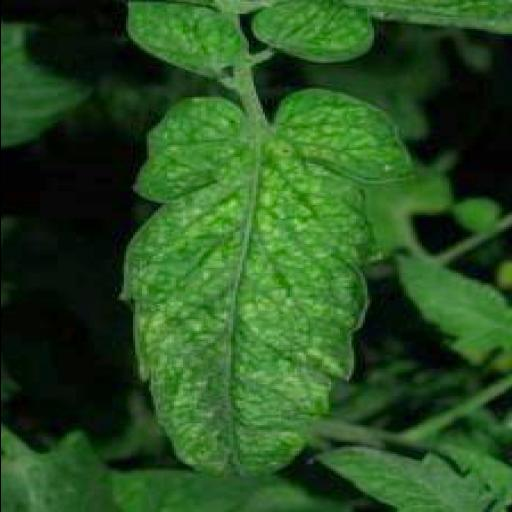Spider Mites: (118, 85, 416, 479), (125, 0, 250, 75), (250, 0, 376, 65)
